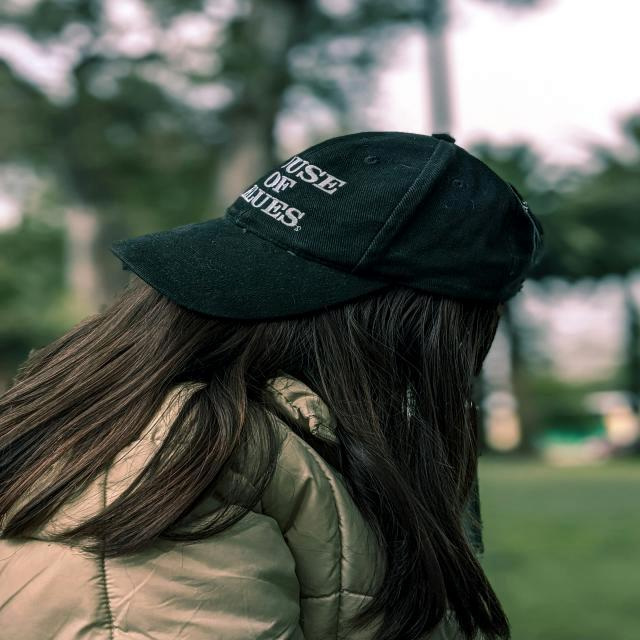no_hard_hat: (113, 132, 542, 320)
person: (2, 133, 522, 640)
